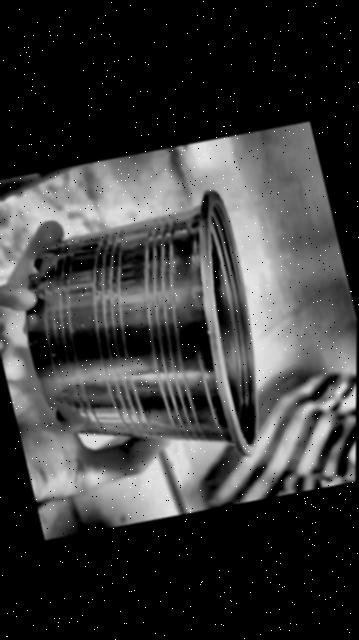pot: (25, 191, 256, 455)
